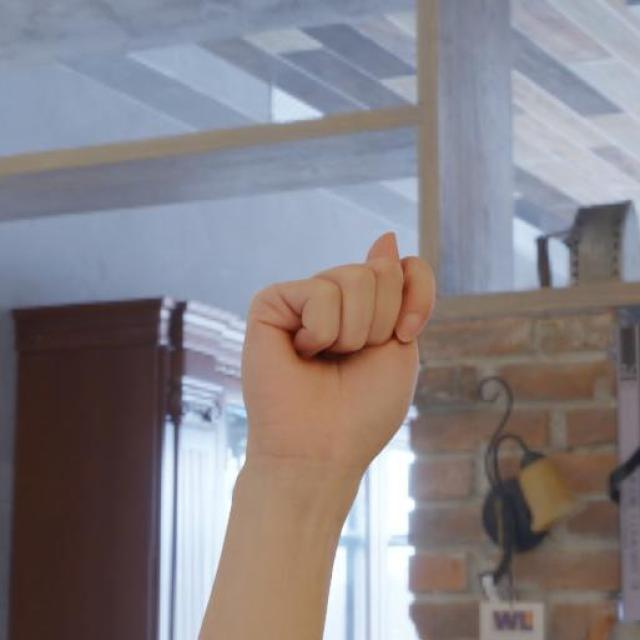T: (234, 221, 443, 473)
